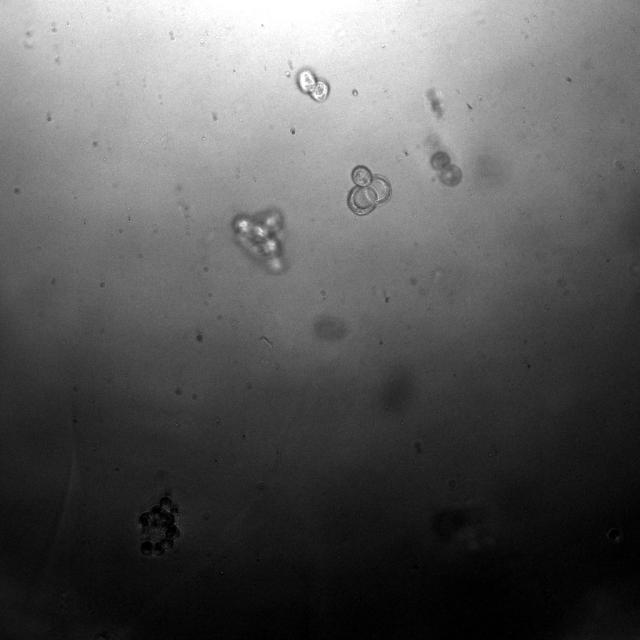organoid: (232, 208, 286, 274), (136, 495, 181, 557), (347, 164, 390, 216), (296, 67, 329, 103), (431, 151, 461, 187)
